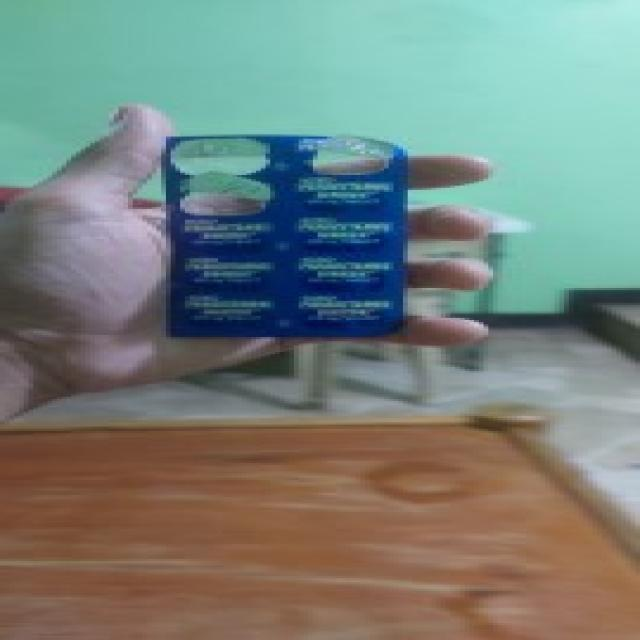Cacat: (170, 131, 398, 340)
Kemasan: (170, 136, 284, 218), (308, 135, 395, 178)
